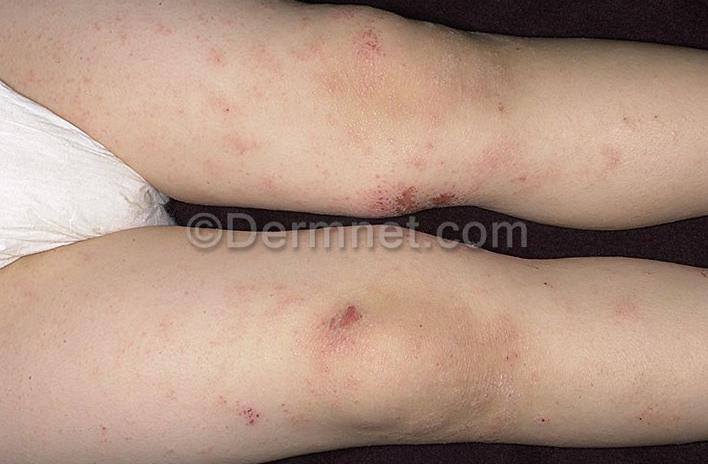Eritema 2: (338, 166, 476, 217)
excoriacion 1: (325, 11, 400, 63)
excoriacion 2: (343, 164, 474, 214)
exudacion 1: (322, 288, 375, 342)
exudacion 2: (333, 167, 479, 221)
